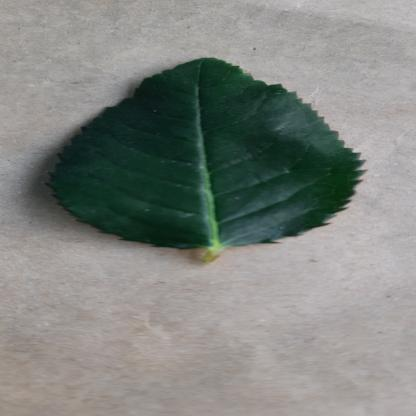normal: (44, 58, 368, 250)
